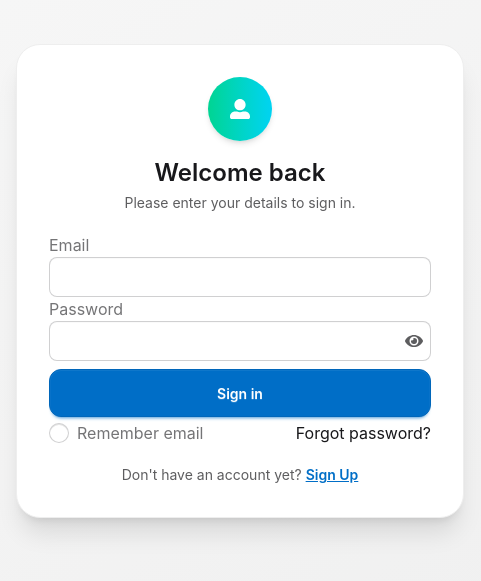
SignInForm › does not save a new email after a failed sign-in
Click the checkbox labelled "Remember email" at (59, 433), box [49,423,69,443]
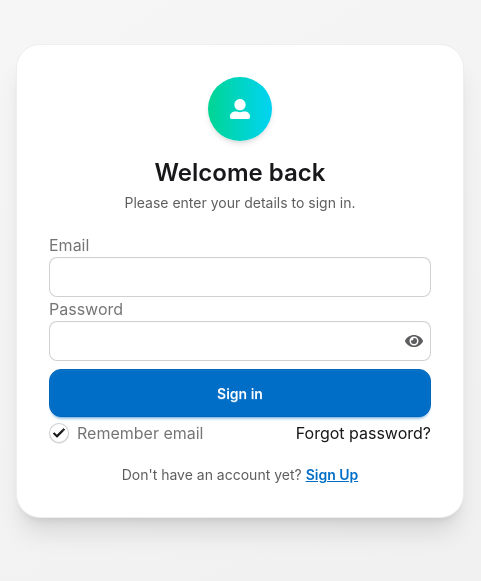
Type "ada@example.com" into the field labelled "Email" at (240, 277), box [49,257,431,297]
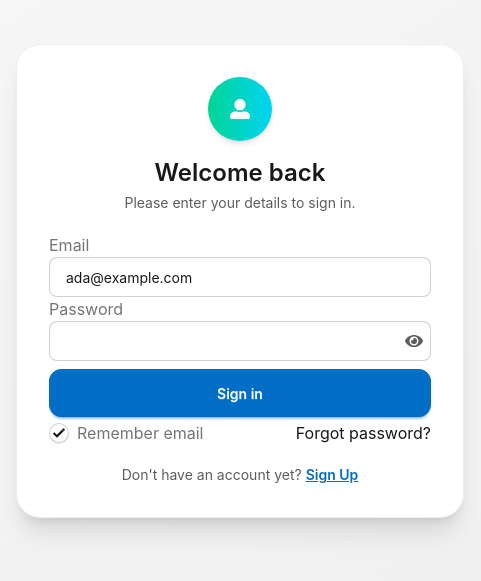
Type "secret1" into the password field labelled "Password" at (240, 341), box [49,321,431,361]
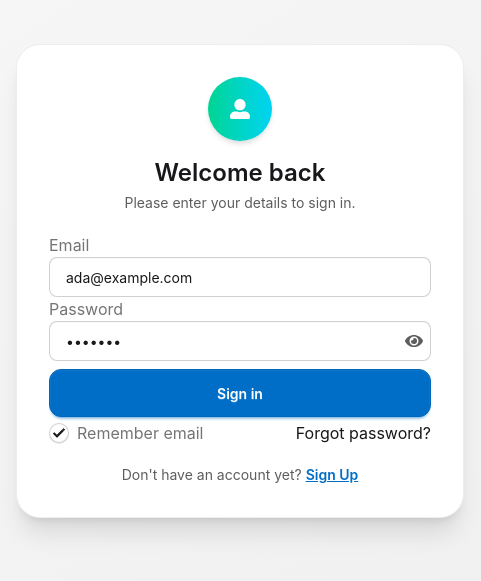
Submit the form "sign in"
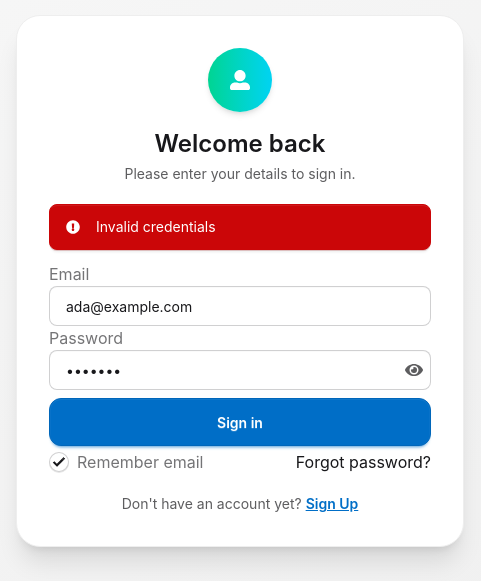
Expected: the text "Invalid credentials" is shown, [49,204,431,250]
